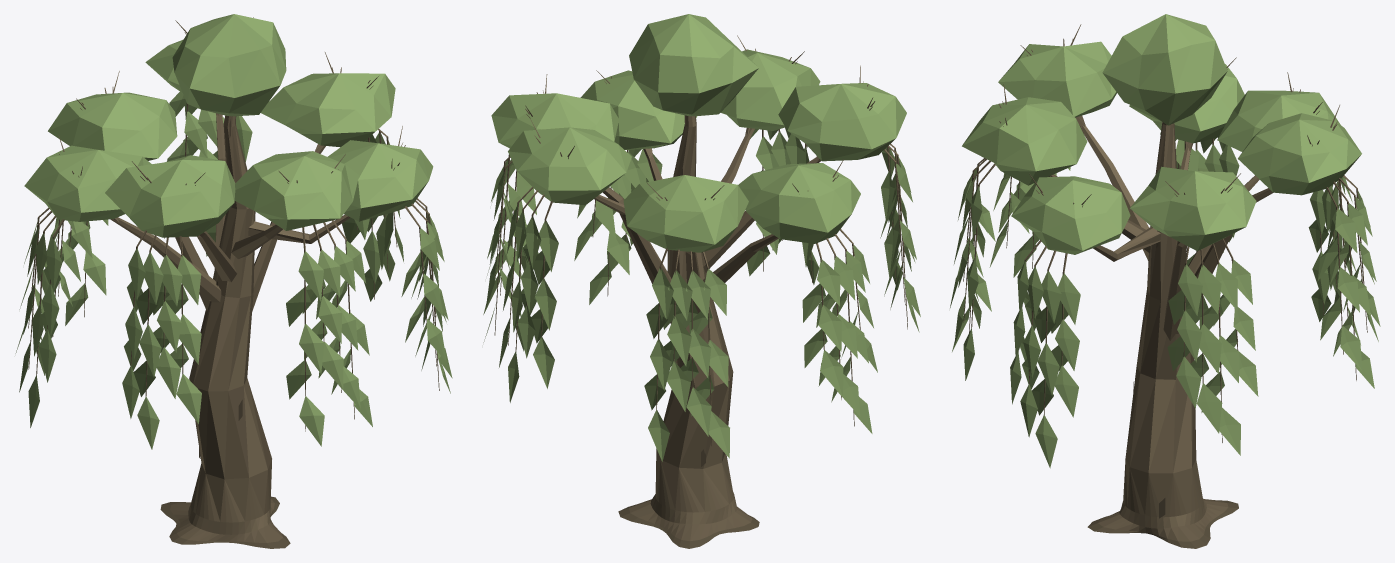
The model's file is willow_spring.glb.
3 renders of one model, left to right at view 1: azimuth 30°, elevation 25°; view 2: azimuth 150°, elevation 25°; view 3: azimuth 270°, elevation 25°, orthographic.
Visible parts, largest first — view 1: leaves, branches; view 2: leaves, branches; view 3: leaves, branches.
Part boxes in pixels (x1=…): leaves: x1=15, y1=14, x2=452, y2=449; branches: x1=28, y1=17, x2=439, y2=548; leaves: x1=483, y1=14, x2=920, y2=461; branches: x1=494, y1=35, x2=907, y2=548; leaves: x1=950, y1=14, x2=1380, y2=468; branches: x1=963, y1=24, x2=1367, y2=548.
Size of the model in its own units: 3.6 by 4.6 by 3.54.
